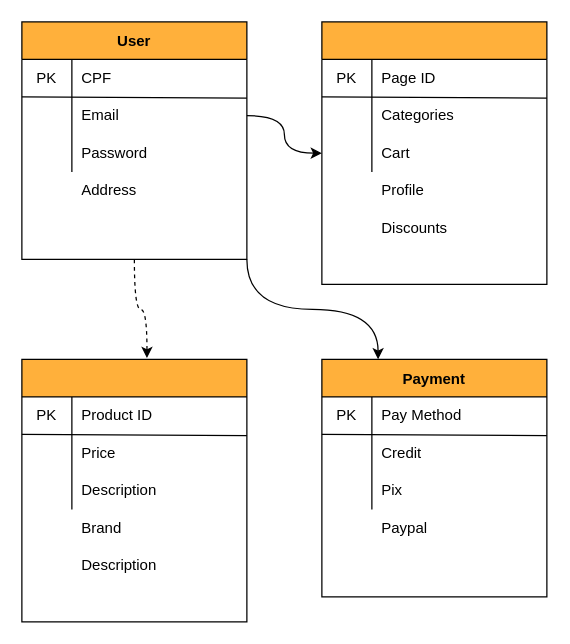
Some shapes in this 570 by 644 pixel diagram are drawn without their labels. Each missing label, with the box of its shape:
Marketplace: (321, 21, 547, 284)
Products: (21, 358, 247, 622)
